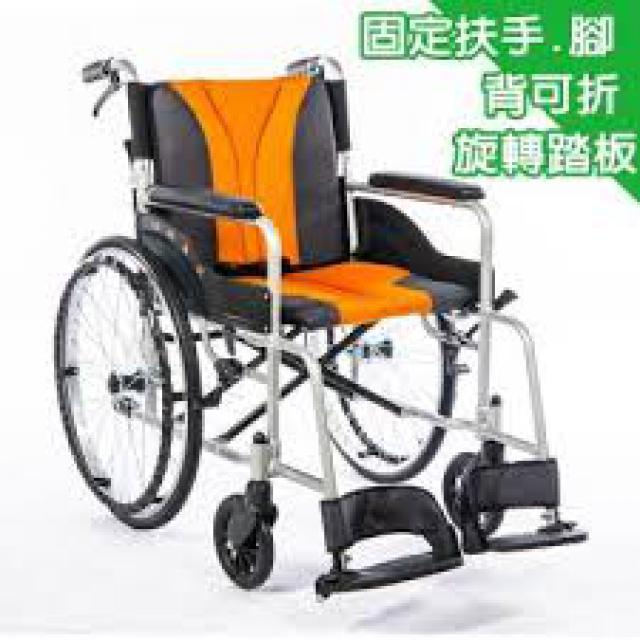wheelchair: (39, 52, 594, 598)
